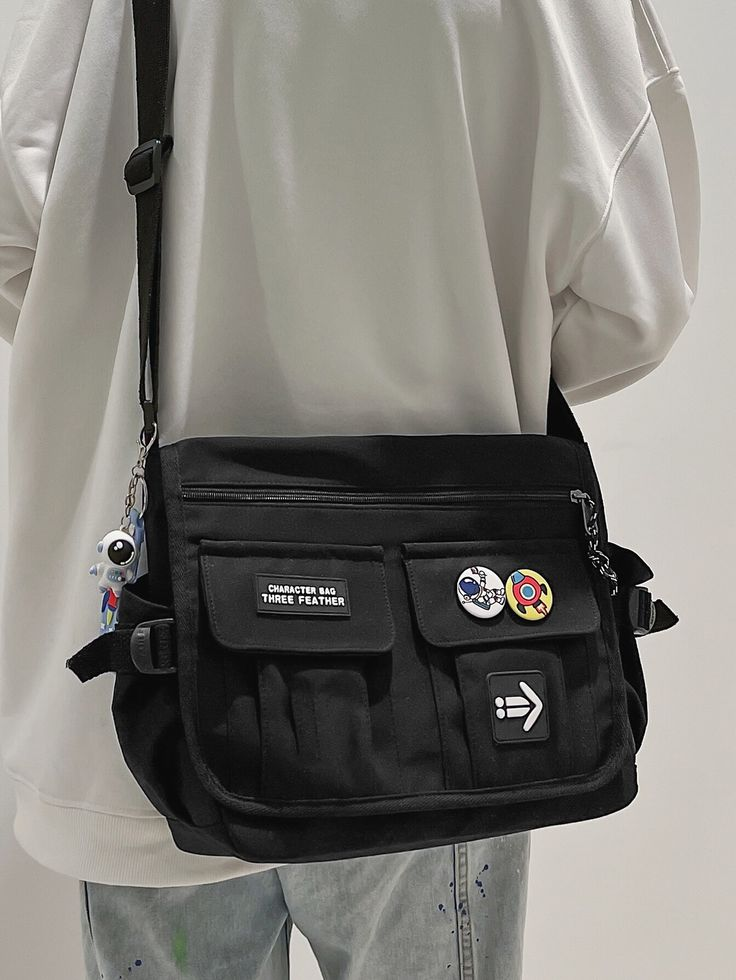nylon: (78, 1, 653, 867)
